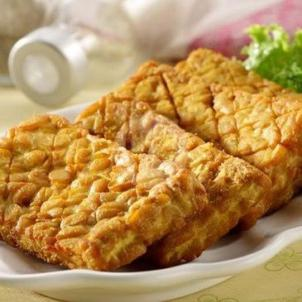Tempe: (11, 113, 175, 278), (90, 99, 249, 239), (141, 79, 295, 177), (194, 61, 302, 123)
